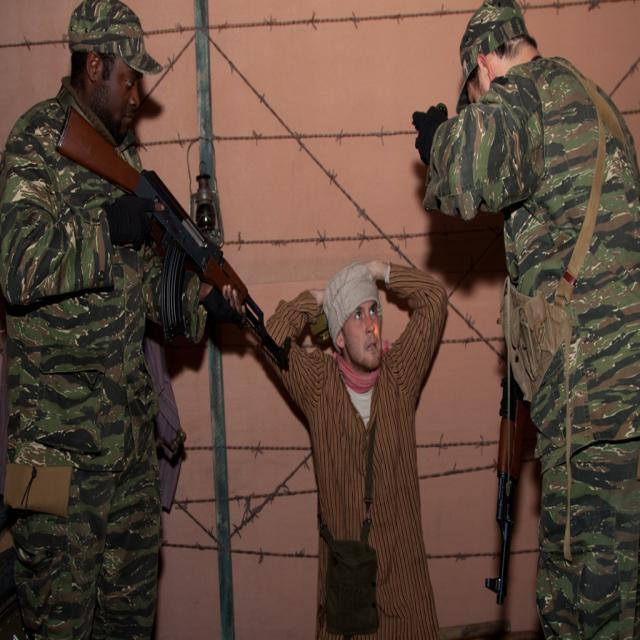weapon: (57, 103, 292, 370), (482, 358, 525, 608)
